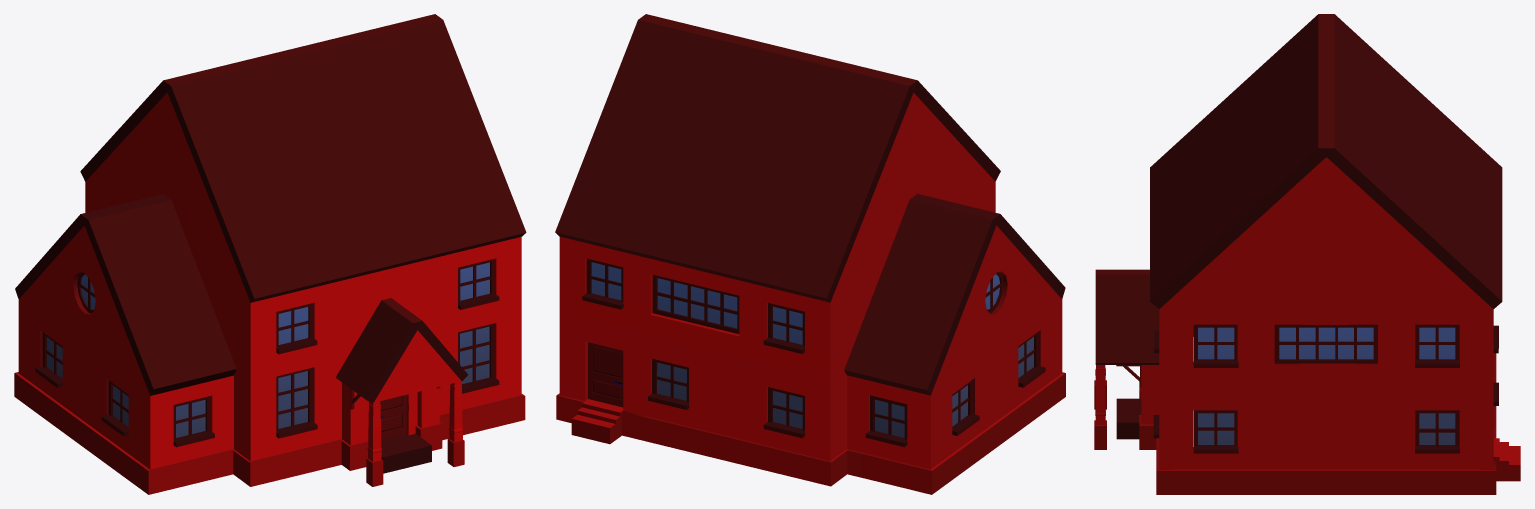
Rendered from Mesh.HouseBlue.fbx.
The picture shows the model from 3 angles, left to right: view 1: azimuth 30°, elevation 25°; view 2: azimuth 150°, elevation 25°; view 3: azimuth 270°, elevation 25°; orthographic projection.
Visible parts, largest first — view 1: base.172, windowRefl.130; view 2: base.172, windowRefl.130; view 3: base.172, windowRefl.130.
Part boxes in pixels (x1=…): base.172: x1=14, y1=14, x2=526, y2=494; windowRefl.130: x1=47, y1=262, x2=489, y2=437; base.172: x1=555, y1=14, x2=1065, y2=494; windowRefl.130: x1=591, y1=262, x2=1033, y2=437; base.172: x1=1094, y1=14, x2=1520, y2=494; windowRefl.130: x1=1198, y1=327, x2=1455, y2=444.
Bounding box in the file's own units: 1442 × 1441 × 1292.
